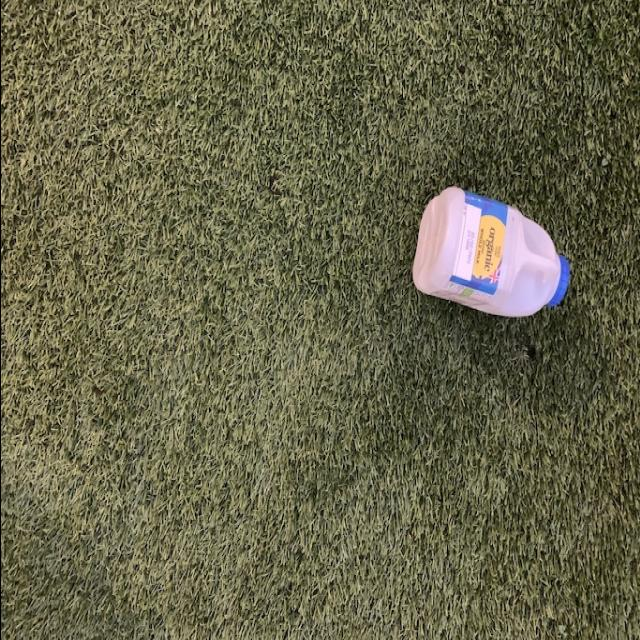HDPEM: (403, 188, 567, 322)
